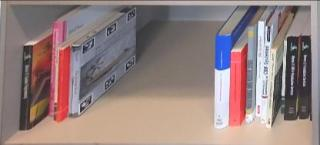book-spine: (47, 20, 65, 116), (214, 33, 230, 129), (19, 44, 34, 131), (259, 25, 272, 124), (284, 35, 298, 121), (254, 20, 266, 117), (265, 49, 277, 128), (299, 35, 310, 120), (245, 26, 254, 123), (230, 51, 240, 126), (71, 46, 81, 118), (53, 47, 60, 121), (67, 45, 74, 118), (57, 49, 64, 122), (280, 40, 286, 114)
